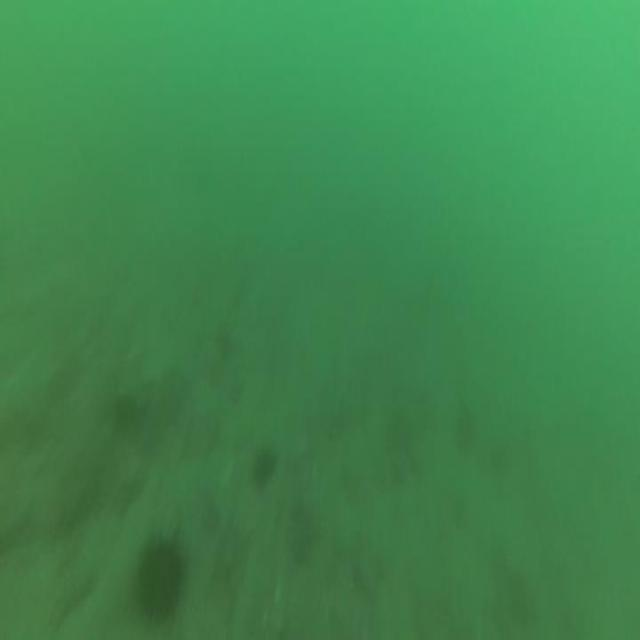echinus: (134, 530, 188, 630), (250, 442, 282, 492), (109, 390, 139, 438), (454, 401, 479, 457), (214, 319, 238, 362)
